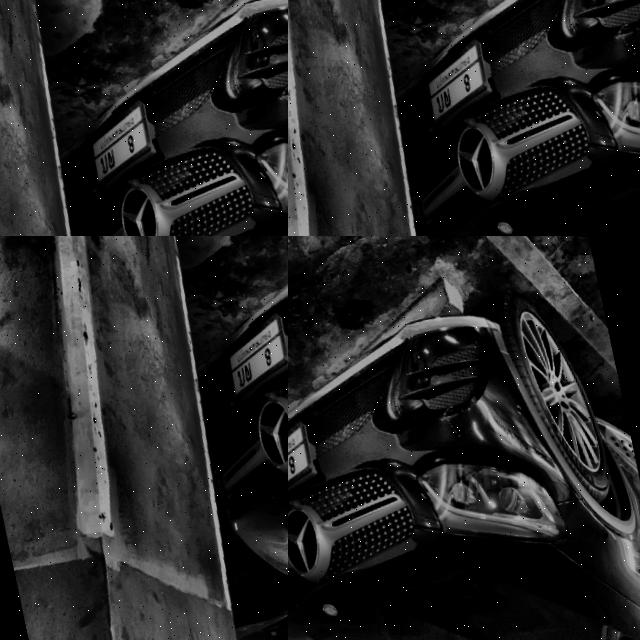license-plate: (288, 411, 328, 512)
